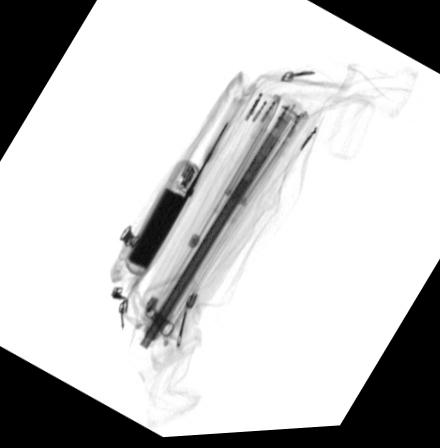Powerbank: (127, 159, 199, 275)
Scissors: (124, 118, 234, 303)
